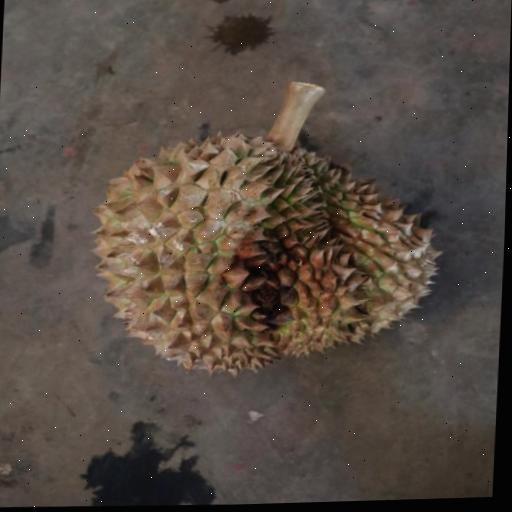rot: (71, 18, 485, 399)
